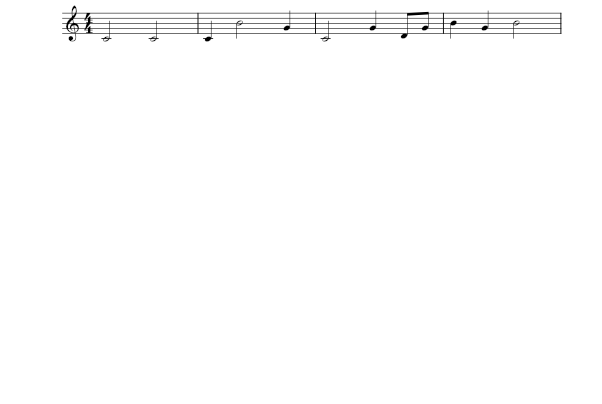Treble Clef: (61, 0, 81, 44)
